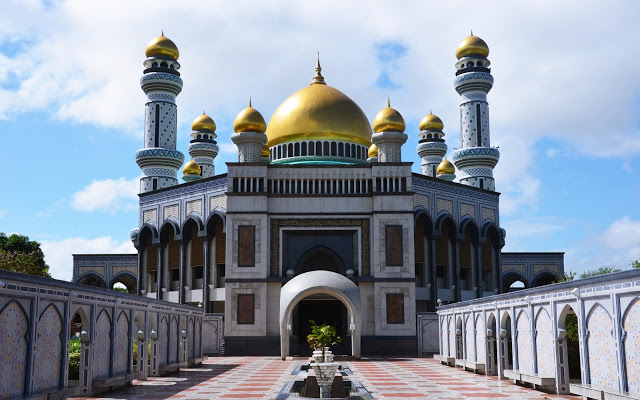Mosque: (124, 35, 515, 322)
